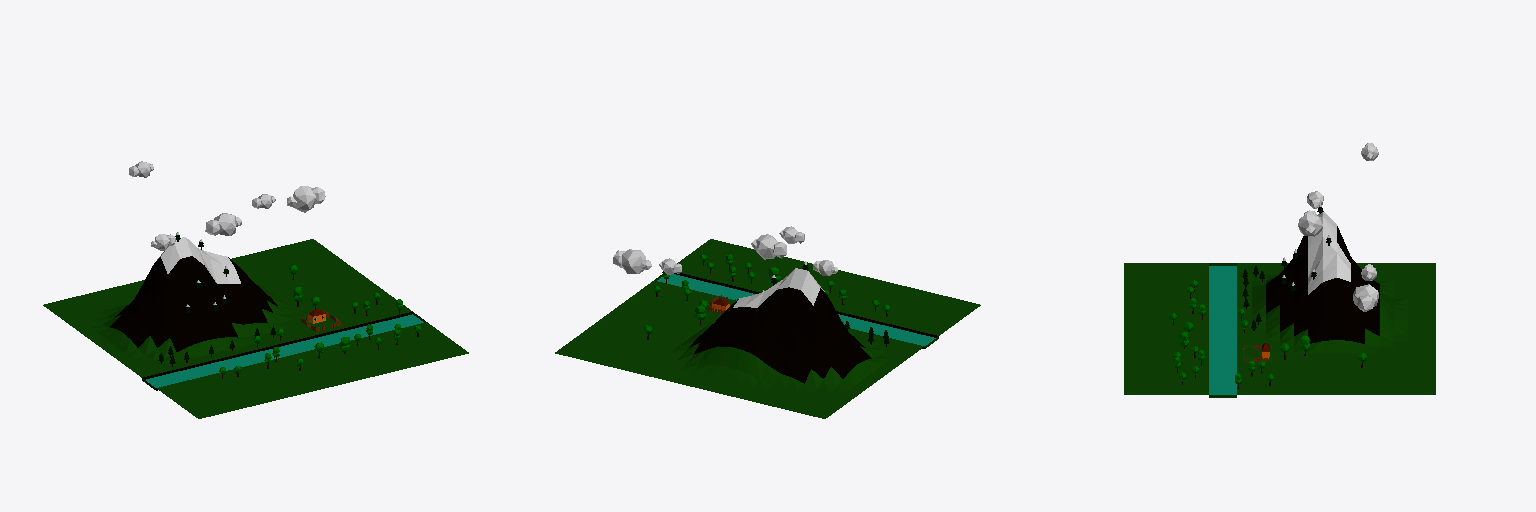
The model's file is terrain.obj.
3 renders of one model, left to right at view 1: azimuth 30°, elevation 25°; view 2: azimuth 150°, elevation 25°; view 3: azimuth 270°, elevation 25°, orthographic.
Parts seen in each view (by area): view 1: Plane, Icosphere.032_Icosphere.037, Icosphere.028_Icosphere.033; view 2: Plane, Icosphere.032_Icosphere.037, Icosphere.028_Icosphere.033; view 3: Plane, Icosphere.032_Icosphere.037.
Boxes of the visible parts, box(x1,y1,x2,y2) form: Plane: box(43, 237, 468, 418); Icosphere.032_Icosphere.037: box(287, 186, 325, 212); Icosphere.028_Icosphere.033: box(205, 213, 241, 235); Plane: box(555, 239, 980, 418); Icosphere.032_Icosphere.037: box(613, 249, 651, 273); Icosphere.028_Icosphere.033: box(751, 234, 786, 259); Plane: box(1124, 212, 1435, 397); Icosphere.032_Icosphere.037: box(1353, 284, 1378, 311).
Bounding box in the file's own units: 6.87 × 3.79 × 6.87.